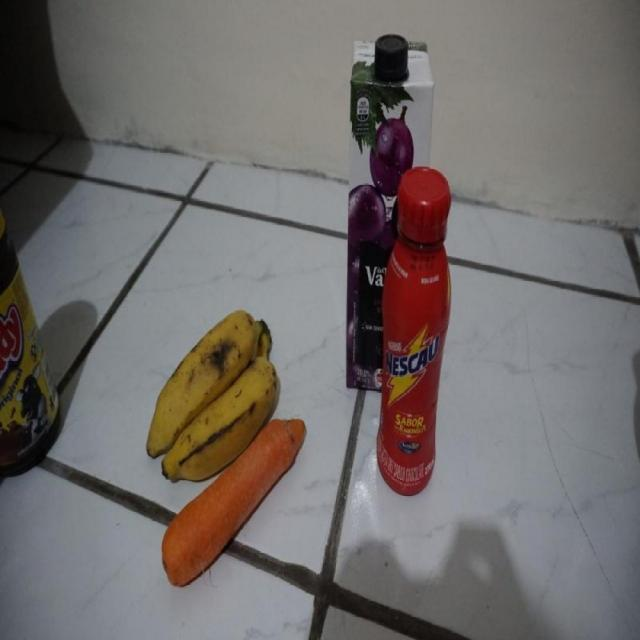Banana: (144, 308, 280, 455)
Carrot: (154, 470, 285, 606)
ChocolateMilk: (379, 164, 451, 495)
ChocolatePowder: (0, 208, 60, 476)
